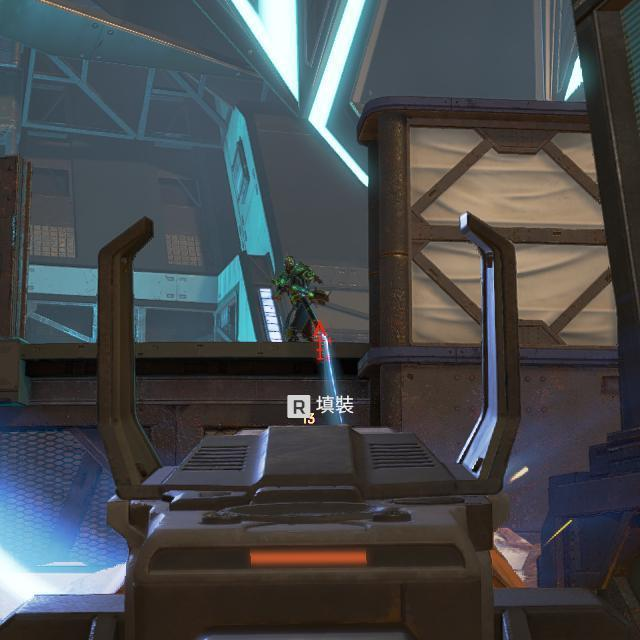avatar: (269, 252, 332, 344)
